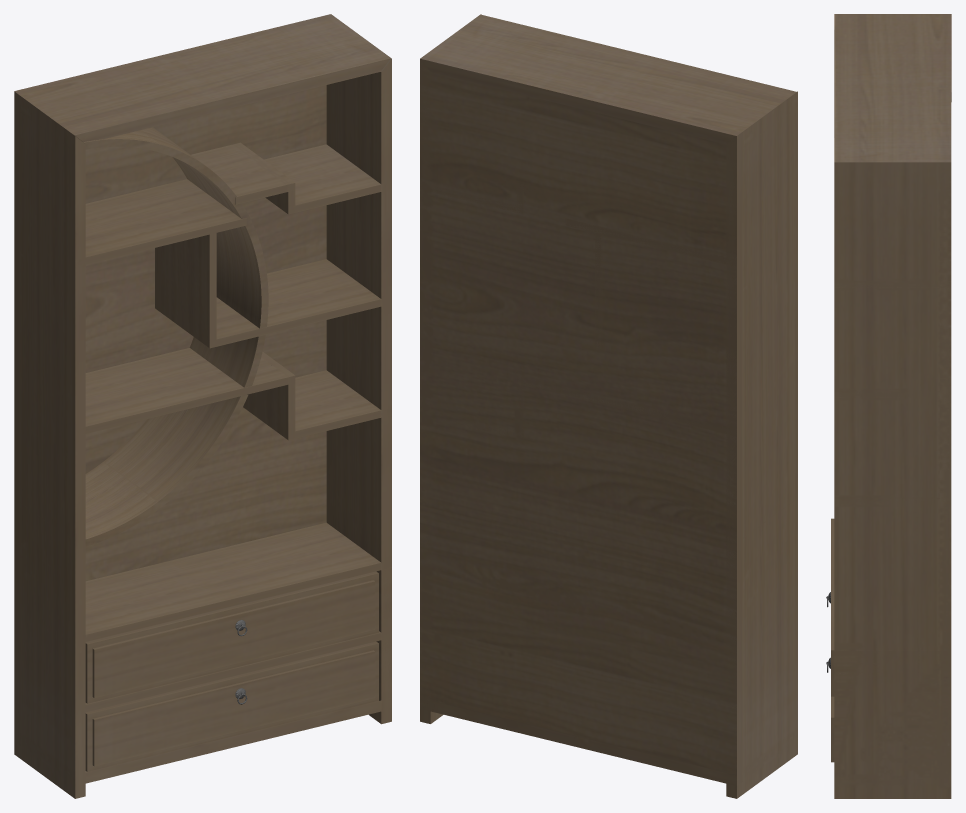
The model's file is raw_model.obj.
3 renders of one model, left to right at view 1: azimuth 30°, elevation 25°; view 2: azimuth 150°, elevation 25°; view 3: azimuth 270°, elevation 25°, orthographic. The views are drawn at different scales.
Parts seen in each view (by area): view 1: solid_001; view 2: solid_001; view 3: solid_001.
Boxes of the visible parts, box(x1,y1,x2,y2) form: solid_001: box(14, 14, 391, 798); solid_001: box(420, 14, 797, 798); solid_001: box(831, 14, 951, 798).
Bounding box in the file's own units: 0.9 × 1.8 × 0.3212.
1 material, 1 textured.
